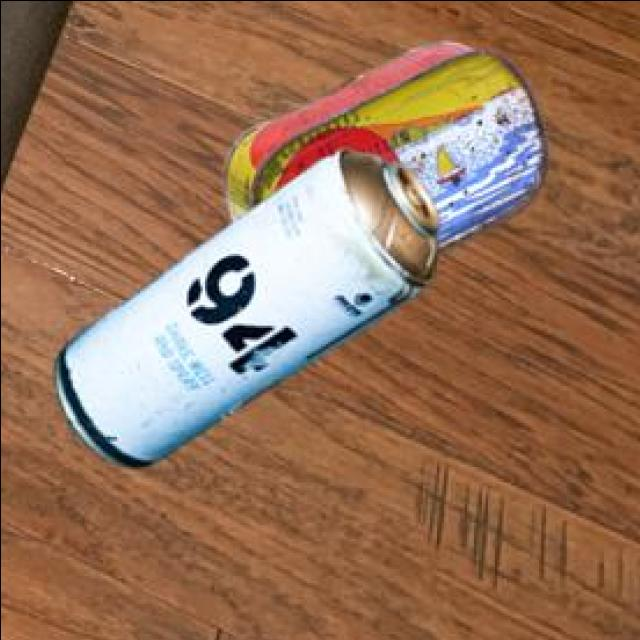logam: (50, 143, 435, 463), (219, 38, 544, 252)
